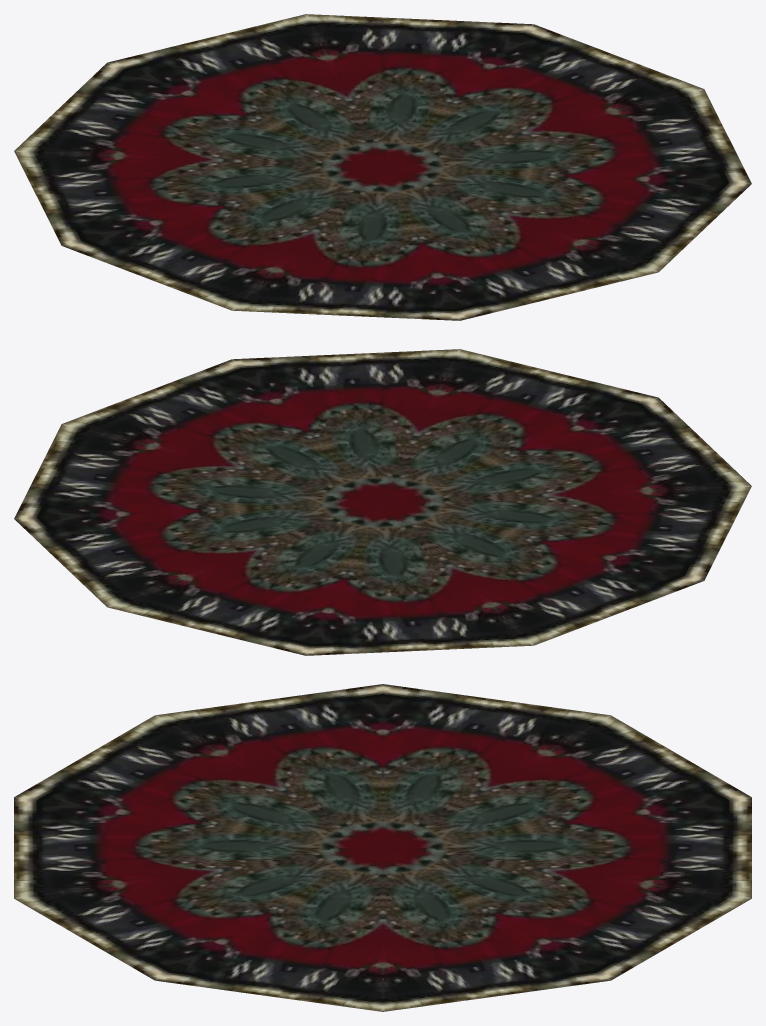
File: DT_CARPET_ROUND_01.glb
3 views of the same model, one above another, from view 1: azimuth 30°, elevation 25°; view 2: azimuth 150°, elevation 25°; view 3: azimuth 270°, elevation 25° (orthographic). The views are drawn at different scales.
Parts seen in each view (by area): view 1: Mesh; view 2: Mesh; view 3: Mesh.
Part boxes in pixels (bbox=[...]): Mesh: bbox=[14, 14, 751, 320]; Mesh: bbox=[14, 349, 751, 655]; Mesh: bbox=[14, 684, 751, 1011].
Size of the model in its own units: 7.36 by 0 by 7.
1 material, 1 textured.
